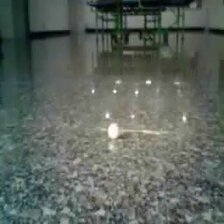w: (107, 122, 121, 140)
